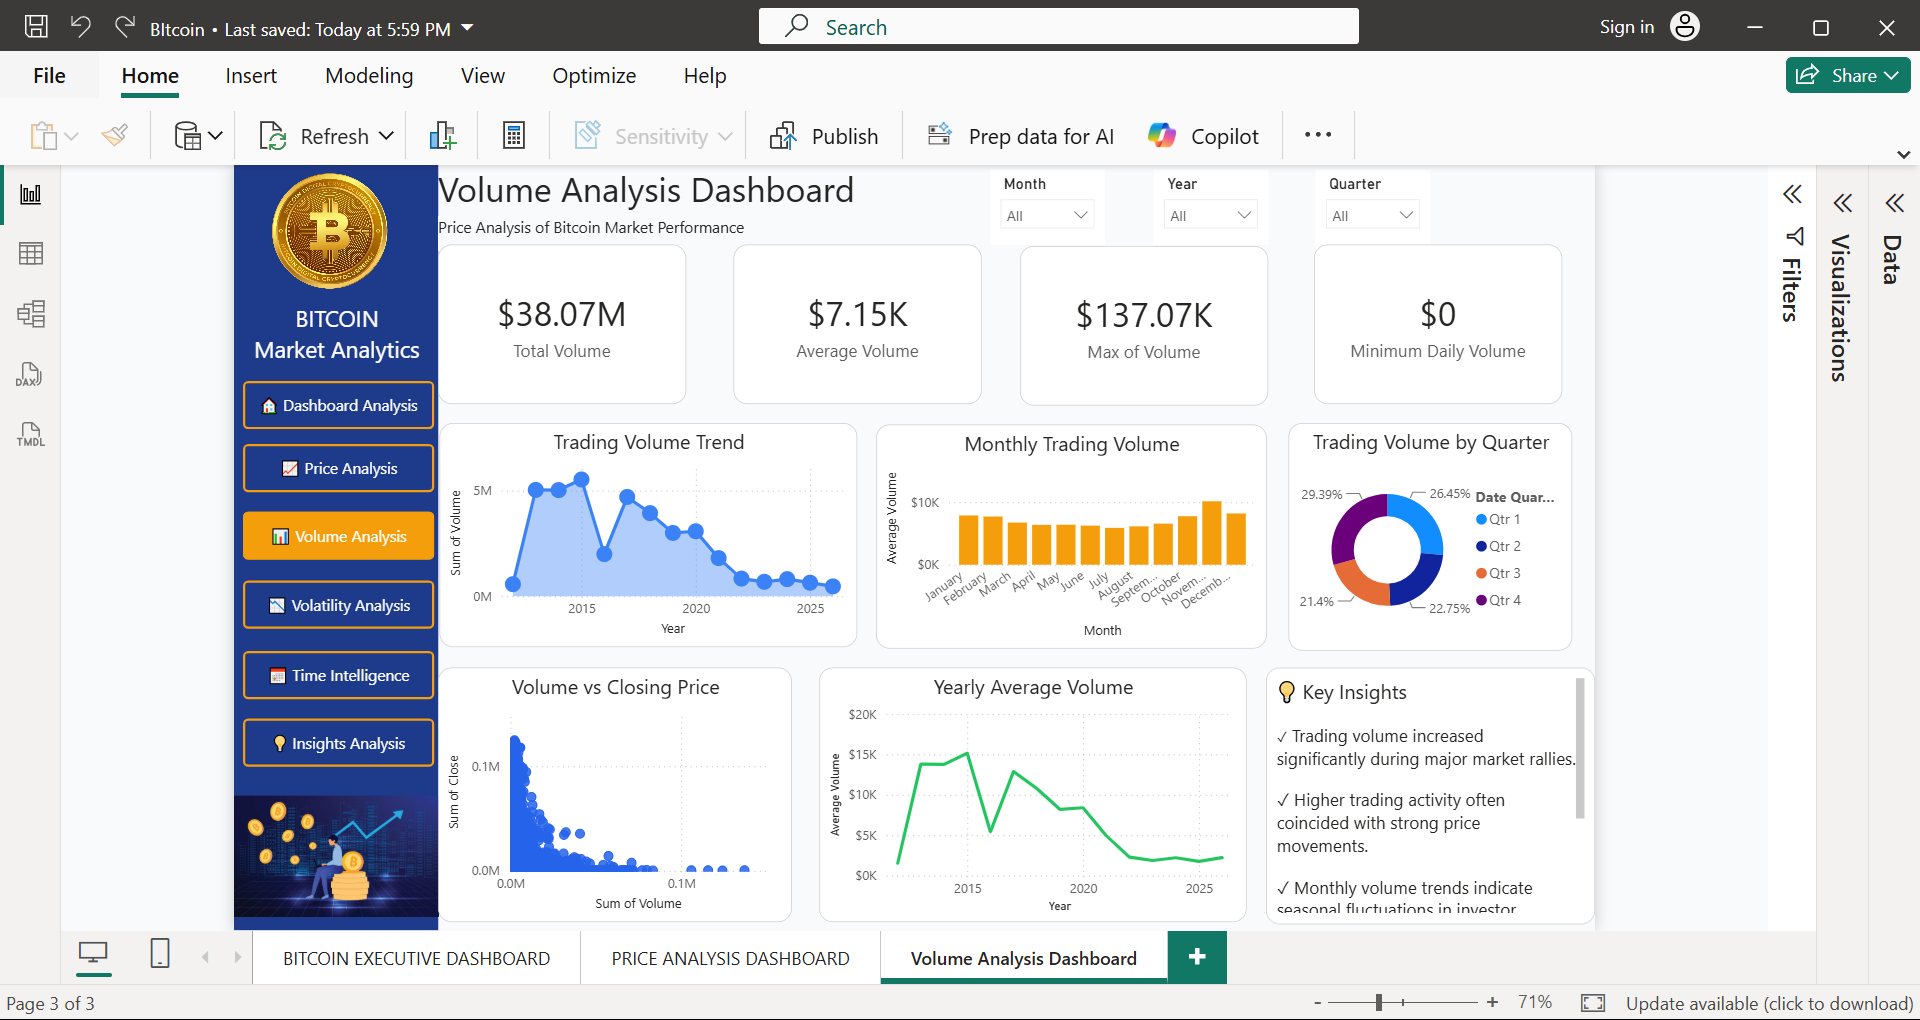

The dashboard page shown, as its layout file describes it:
{"tool":"powerbi","page":{"name":"Volume Analysis Dashboard","canvas":[1280,720],"ordinal":2},"visuals":[{"type":"shape","box":[0,0,192.3,719.2],"z":0},{"type":"image","box":[0,0,180.2,124.2],"z":1000},{"type":"textbox","box":[1.5,124.1,190.6,80.2],"z":2000},{"type":"actionButton","box":[7.8,203.2,179.7,45.3],"z":3000},{"type":"actionButton","box":[7.8,262.6,179.7,45.3],"z":4000},{"type":"actionButton","box":[7.8,390.7,179.7,45.3],"z":5000},{"type":"actionButton","box":[7.8,325.1,179.7,45.3],"z":6000},{"type":"actionButton","box":[7.8,456.4,179.7,45.3],"z":7000},{"type":"actionButton","box":[7.8,520.5,179.7,45.3],"z":8000},{"type":"image","box":[0,579,192.5,140.4],"z":9000},{"type":"shape","title":"Volume Analysis Dashboard","box":[191.8,0,1088.5,80.4],"z":10000},{"type":"shape","box":[701.8,0,578.3,79.7],"z":11000},{"type":"slicer","fields":{"Values":["Bitcoin_Cleaned_Daily.Month"]},"box":[711.2,4.7,107.8,70.3],"z":12000},{"type":"slicer","fields":{"Values":["Bitcoin_Cleaned_Daily.Year"]},"box":[864.3,4.7,107.8,70.3],"z":13000},{"type":"slicer","fields":{"Values":["Bitcoin_Cleaned_Daily.Quarter"]},"box":[1015.9,4.7,107.8,70.3],"z":14000},{"type":"textbox","box":[970.6,471.7,309.4,241.1],"z":15000},{"type":"card","fields":{"Values":["Bitcoin_Cleaned_Daily.Total Volume"]},"box":[192.2,74.1,233,149.8],"z":16000},{"type":"card","fields":{"Values":["Bitcoin_Cleaned_Daily.Average Volume"]},"box":[469,74.1,233,149.8],"z":17000},{"type":"card","fields":{"Values":["Max(Bitcoin_Cleaned_Daily.Volume)"]},"box":[738.3,75.7,233,149.8],"z":18000},{"type":"card","fields":{"Values":["Bitcoin_Cleaned_Daily.Minimum Daily Volume"]},"box":[1015.2,74.1,233,149.8],"z":19000},{"type":"areaChart","title":"Trading Volume Trend","fields":{"Category":["Bitcoin_Cleaned_Daily.Year"],"Y":["Sum(Bitcoin_Cleaned_Daily.Volume)"]},"box":[192.6,242.7,392.8,210.8],"z":20000},{"type":"clusteredColumnChart","title":"Monthly Trading Volume","fields":{"Y":["Bitcoin_Cleaned_Daily.Average Volume"],"Category":["Bitcoin_Cleaned_Daily.Date.Variation.Date Hierarchy.Month"]},"box":[603.6,244.2,367,210.8],"z":21000},{"type":"scatterChart","title":"Volume vs Closing Price","fields":{"X":["Sum(Bitcoin_Cleaned_Daily.Volume)"],"Y":["Sum(Bitcoin_Cleaned_Daily.Close)"],"Category":["Bitcoin_Cleaned_Daily.Date"]},"box":[192.2,472.1,332.9,239.1],"z":22000},{"type":"donutChart","title":"Trading Volume by Quarter","fields":{"Category":["Bitcoin_Cleaned_Daily.Date.Variation.Date Hierarchy.Quarter"],"Y":["Sum(Bitcoin_Cleaned_Daily.Volume)"]},"box":[991.8,242.7,266.9,213.8],"z":23000},{"type":"lineChart","title":"Yearly Average Volume","fields":{"Category":["Bitcoin_Cleaned_Daily.Year"],"Y":["Bitcoin_Cleaned_Daily.Average Volume"]},"box":[550.5,471.7,401.9,239.6],"z":24000}]}

Visuals, with their boxes on the page's 1280x720 design canvas (x1, y1, x2, y2). These are canvas units, not pixel positions in the 1920x1020 screenshot, which may show the page scaled, cropped or inside an application window:
shape: pyautogui.locateOnScreen(0, 0, 192, 719)
image: pyautogui.locateOnScreen(0, 0, 180, 124)
textbox: pyautogui.locateOnScreen(2, 124, 192, 204)
actionButton: pyautogui.locateOnScreen(8, 203, 188, 248)
actionButton: pyautogui.locateOnScreen(8, 263, 188, 308)
actionButton: pyautogui.locateOnScreen(8, 391, 188, 436)
actionButton: pyautogui.locateOnScreen(8, 325, 188, 370)
actionButton: pyautogui.locateOnScreen(8, 456, 188, 502)
actionButton: pyautogui.locateOnScreen(8, 520, 188, 566)
image: pyautogui.locateOnScreen(0, 579, 192, 719)
"Volume Analysis Dashboard" shape: pyautogui.locateOnScreen(192, 0, 1280, 80)
shape: pyautogui.locateOnScreen(702, 0, 1280, 80)
slicer - Bitcoin_Cleaned_Daily.Month: pyautogui.locateOnScreen(711, 5, 819, 75)
slicer - Bitcoin_Cleaned_Daily.Year: pyautogui.locateOnScreen(864, 5, 972, 75)
slicer - Bitcoin_Cleaned_Daily.Quarter: pyautogui.locateOnScreen(1016, 5, 1124, 75)
textbox: pyautogui.locateOnScreen(971, 472, 1280, 713)
card - Bitcoin_Cleaned_Daily.Total Volume: pyautogui.locateOnScreen(192, 74, 425, 224)
card - Bitcoin_Cleaned_Daily.Average Volume: pyautogui.locateOnScreen(469, 74, 702, 224)
card - Max(Bitcoin_Cleaned_Daily.Volume): pyautogui.locateOnScreen(738, 76, 971, 226)
card - Bitcoin_Cleaned_Daily.Minimum Daily Volume: pyautogui.locateOnScreen(1015, 74, 1248, 224)
"Trading Volume Trend" areaChart: pyautogui.locateOnScreen(193, 243, 585, 454)
"Monthly Trading Volume" clusteredColumnChart: pyautogui.locateOnScreen(604, 244, 971, 455)
"Volume vs Closing Price" scatterChart: pyautogui.locateOnScreen(192, 472, 525, 711)
"Trading Volume by Quarter" donutChart: pyautogui.locateOnScreen(992, 243, 1259, 456)
"Yearly Average Volume" lineChart: pyautogui.locateOnScreen(550, 472, 952, 711)
